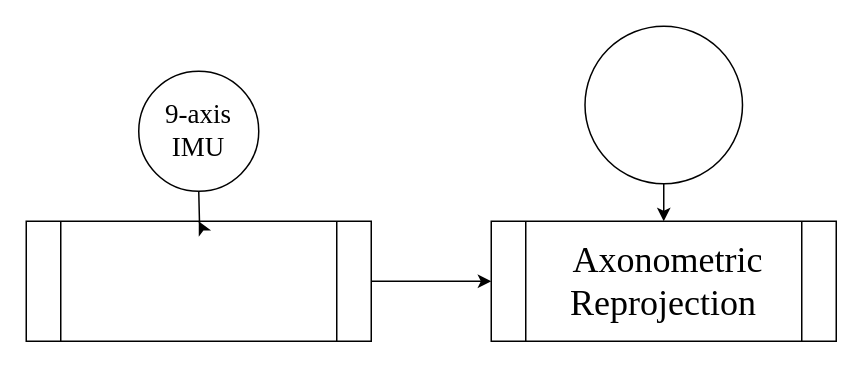
The diagram is 863 pixels wide and 368 high, and some of its shapes have lost their labels. The centre of each missing label's shape, as x and y in pixels:
"Color PointClouds" belongs at (663,104).
"Rotation Estimation" belongs at (198,280).
